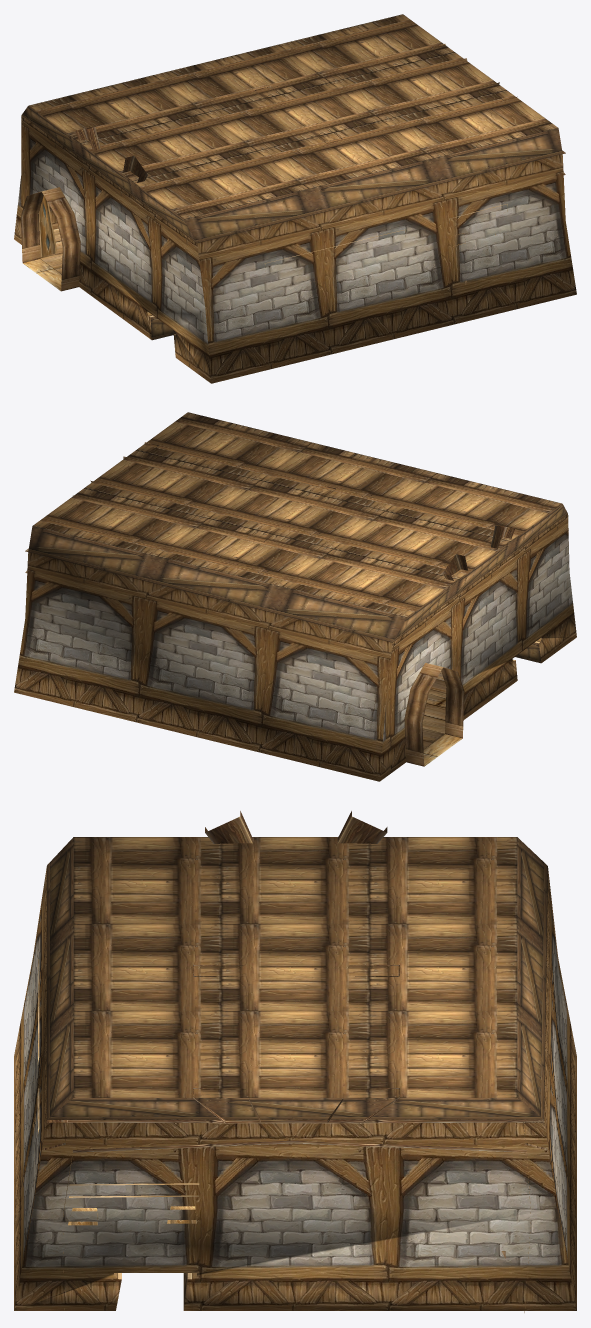
Rendered from stormwind_075.fbx.
3 renders of one model, top to bottom at view 1: azimuth 30°, elevation 25°; view 2: azimuth 150°, elevation 25°; view 3: azimuth 270°, elevation 25°, orthographic. The views are drawn at different scales.
Visible parts, largest first — view 1: stormwind_075_87, stormwind_075_55, stormwind_075_56, stormwind_075_49, stormwind_075_53; view 2: stormwind_075_87, stormwind_075_55, stormwind_075_56, stormwind_075_49, stormwind_075_53, stormwind_075_51; view 3: stormwind_075_55, stormwind_075_87, stormwind_075_56, stormwind_075_53, stormwind_075_54.
Part boxes in pixels (<box>): stormwind_075_87: <box>14,115,576,383</box>; stormwind_075_55: <box>29,14,557,219</box>; stormwind_075_56: <box>22,106,562,340</box>; stormwind_075_49: <box>20,187,80,291</box>; stormwind_075_53: <box>23,43,565,299</box>; stormwind_075_87: <box>14,514,576,781</box>; stormwind_075_55: <box>33,412,561,617</box>; stormwind_075_56: <box>28,504,567,663</box>; stormwind_075_49: <box>404,663,464,766</box>; stormwind_075_53: <box>25,442,558,766</box>; stormwind_075_51: <box>422,671,446,748</box>; stormwind_075_55: <box>73,837,517,1097</box>; stormwind_075_87: <box>14,866,576,1310</box>; stormwind_075_56: <box>47,837,547,1308</box>; stormwind_075_53: <box>33,811,572,1312</box>; stormwind_075_54: <box>33,959,199,1279</box>.
Bounding box in the file's own units: 17.04 × 7.1 × 14.96.
